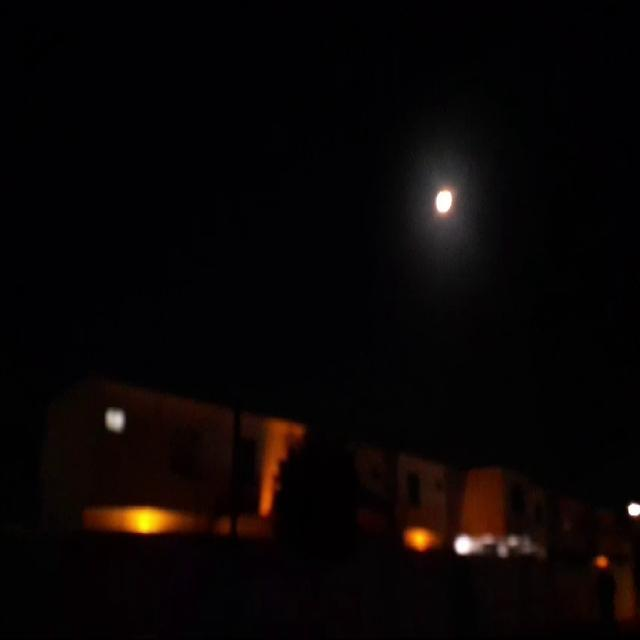moon: (430, 187, 453, 220)
